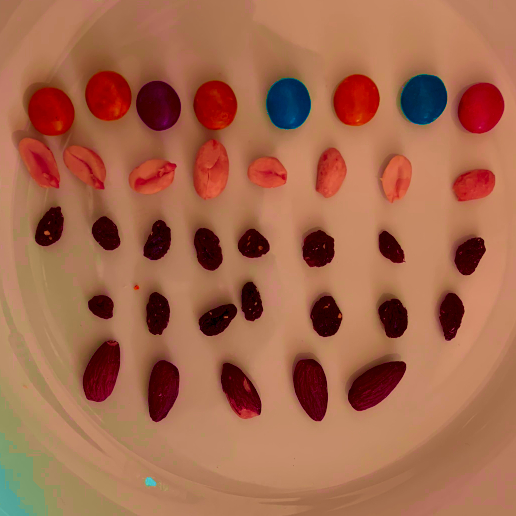almond: (348, 360, 407, 412), (220, 362, 262, 420), (82, 340, 121, 402), (293, 358, 329, 423), (147, 359, 180, 423)
mm: (332, 74, 380, 127), (400, 73, 448, 126), (458, 81, 506, 134), (84, 70, 132, 122), (265, 77, 312, 130), (27, 86, 76, 136), (135, 80, 182, 132), (192, 80, 238, 130)
peanut: (192, 138, 230, 201), (18, 137, 61, 190), (63, 145, 107, 190), (128, 157, 177, 194), (314, 146, 348, 198), (380, 154, 413, 204), (452, 168, 497, 202), (246, 155, 288, 189)
raisin: (309, 295, 343, 338), (438, 292, 465, 342), (302, 229, 336, 268), (194, 227, 224, 271), (454, 236, 487, 276), (198, 303, 238, 336), (378, 298, 409, 339), (142, 219, 172, 261), (35, 205, 64, 247), (145, 292, 170, 336), (237, 228, 271, 259), (92, 216, 121, 251), (378, 229, 406, 265), (240, 281, 263, 322), (87, 294, 115, 319)
